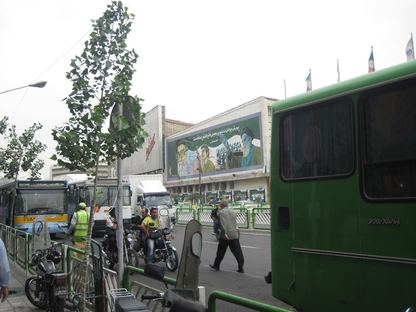bus: (271, 57, 416, 312), (0, 178, 69, 239)
